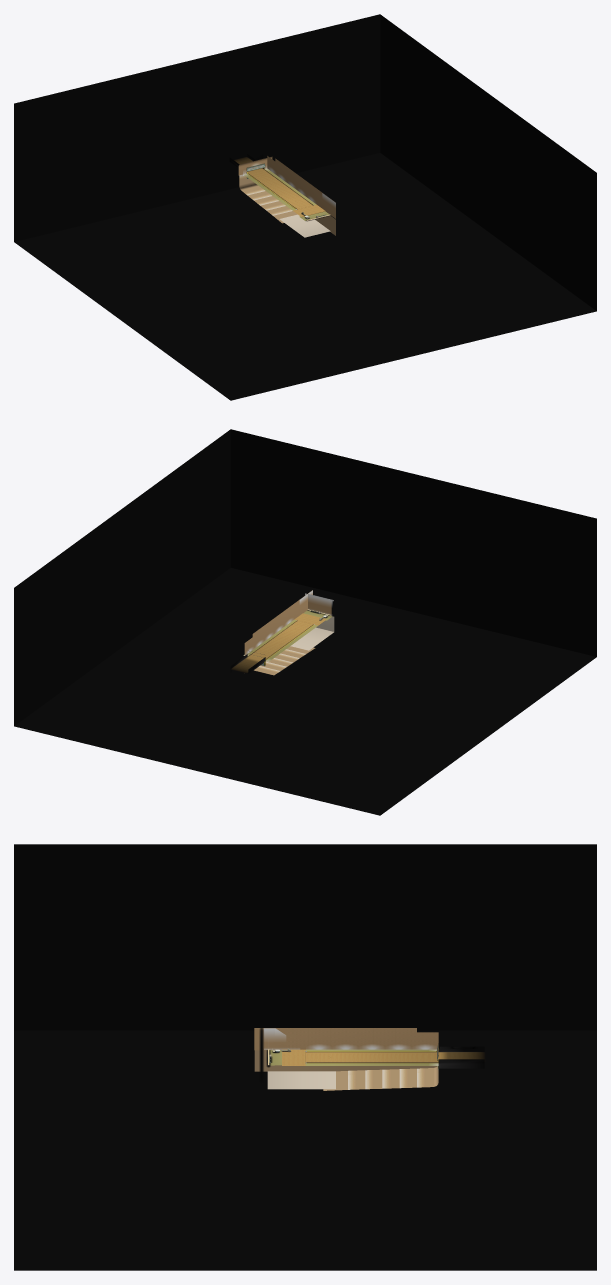
File: bwg_field_91__bwg_field_91.glb
3 views of the same model, one above another, from view 1: azimuth 30°, elevation 25°; view 2: azimuth 150°, elevation 25°; view 3: azimuth 270°, elevation 25° (orthographic). The views are drawn at different scales.
Parts seen in each view (by area): view 1: polygon115, polygon37, polygon36, polygon16; view 2: polygon115, polygon37, polygon36, polygon16; view 3: polygon115, polygon37, polygon36, polygon16, polygon40.
Part boxes in pixels (left/top/right/bottom): polygon115: left=14, top=14, right=596, bottom=400; polygon37: left=239, top=174, right=335, bottom=237; polygon36: left=238, top=156, right=335, bottom=218; polygon16: left=234, top=157, right=325, bottom=217; polygon115: left=14, top=429, right=596, bottom=815; polygon37: left=254, top=616, right=334, bottom=675; polygon36: left=244, top=590, right=331, bottom=655; polygon16: left=231, top=620, right=312, bottom=673; polygon115: left=14, top=844, right=596, bottom=1270; polygon37: left=254, top=1050, right=438, bottom=1090; polygon36: left=254, top=1028, right=438, bottom=1050; polygon16: left=305, top=1052, right=485, bottom=1062; polygon40: left=269, top=1049, right=438, bottom=1065.
Bounding box in the file's own units: 1101 × 398 × 1128.
26 materials, 26 textured.
